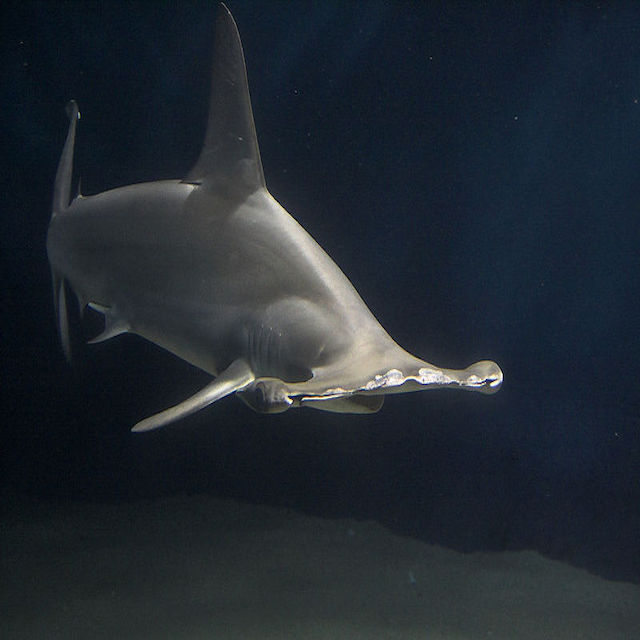hammerhead: (160, 232, 534, 434)
